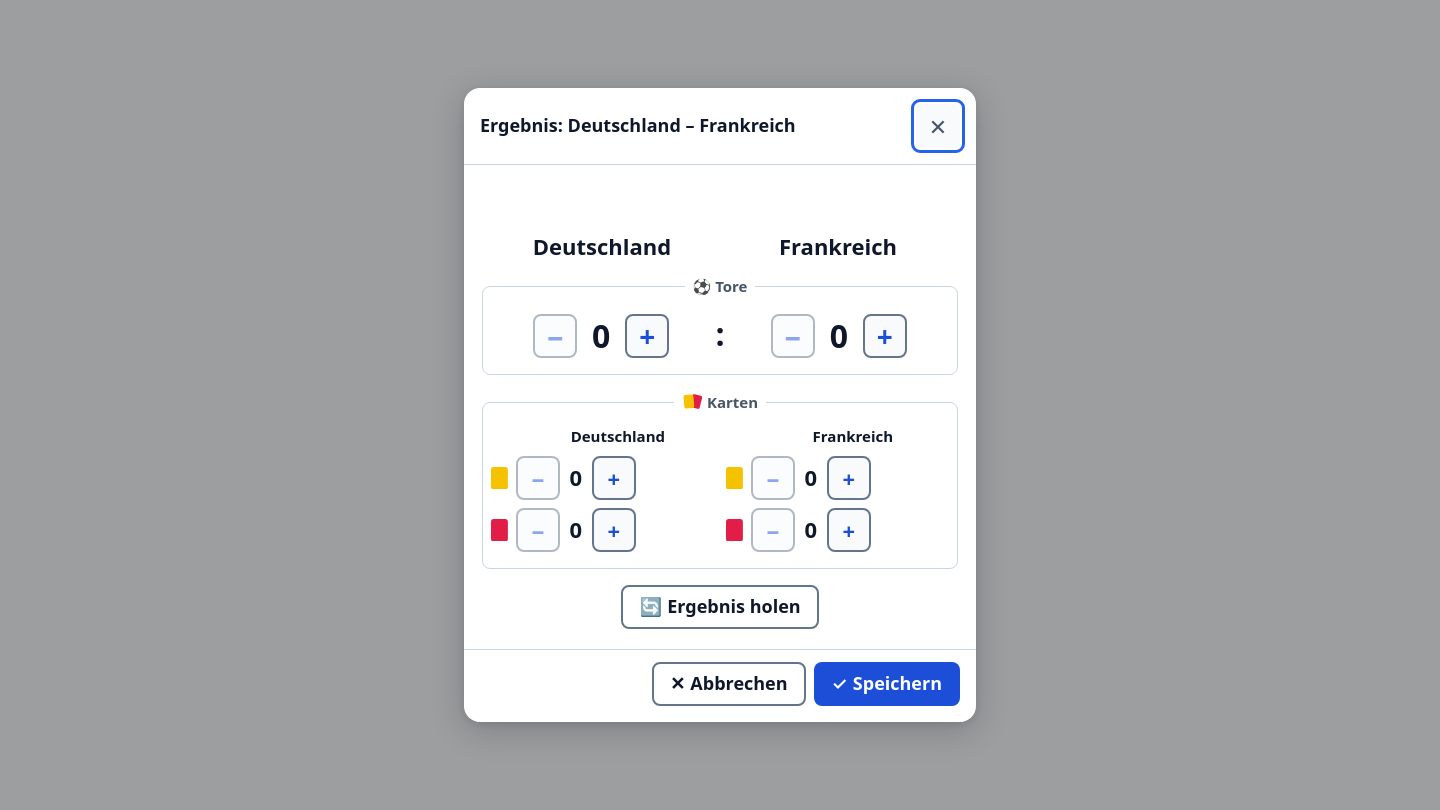
Test case: ScoreDialog › live result fetch › shows a visible confirmation once a live result is applied
This screenshot has width=1440, height=810.
Click the button "🔄 Ergebnis holen" at [720, 607], box [621,585,819,629]
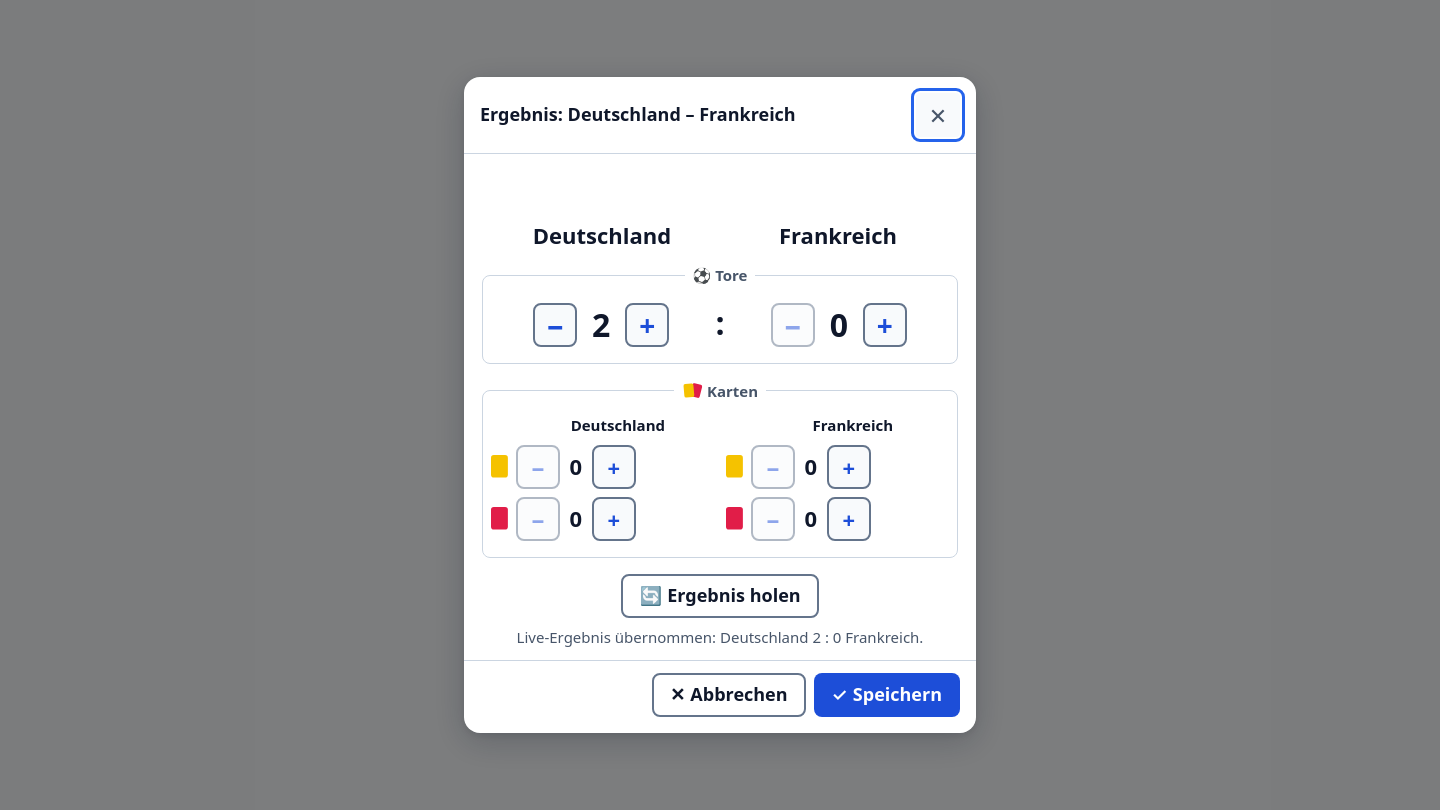
Expected: the message "Live-Ergebnis übernommen: Deutschland 2 : 0 Frankreich." is shown, [517,627,923,647]
